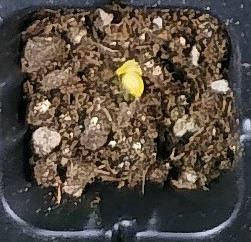pepper seed: (50, 23, 195, 121), (44, 20, 188, 100)
